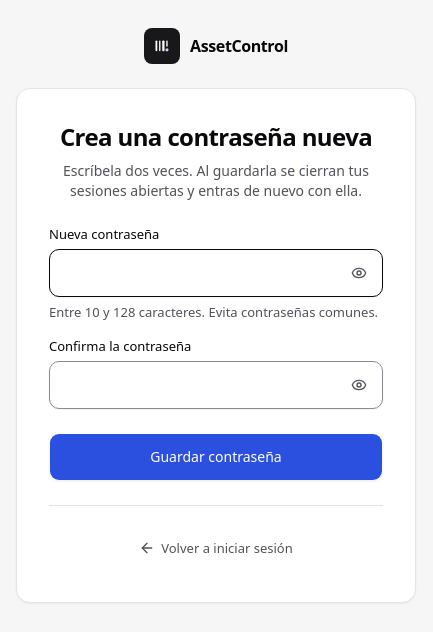
Test case: /restablecer: enviar › 400 contrasena_corta marca el campo con el mensaje y le pasa el foco
Type "Una-clave-nueva-2026" into the password field labelled "Nueva contraseña" at (216, 272), box top-left (49, 248), bottom-right (383, 296)
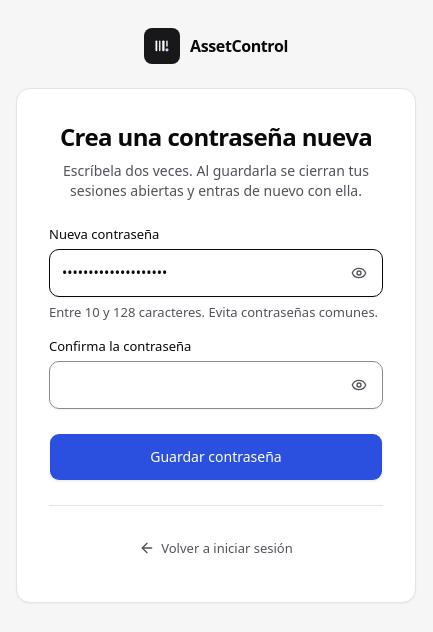
Type "Una-clave-nueva-2026" into the password field labelled "Confirma la contraseña" at (216, 384), box top-left (49, 360), bottom-right (383, 408)
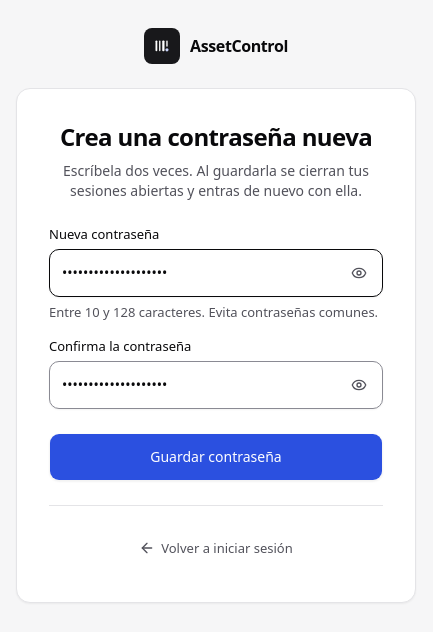
Click the button "Guardar contraseña" at (216, 456), box top-left (49, 432), bottom-right (383, 480)
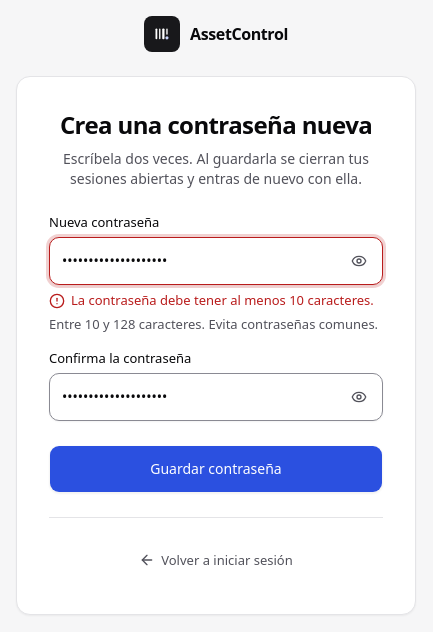
Check: the heading "Crea una contraseña nueva" is shown, box top-left (60, 108), bottom-right (372, 140)
Check: the password field labelled "Nueva contraseña" is marked as invalid, box top-left (49, 236), bottom-right (383, 284)
